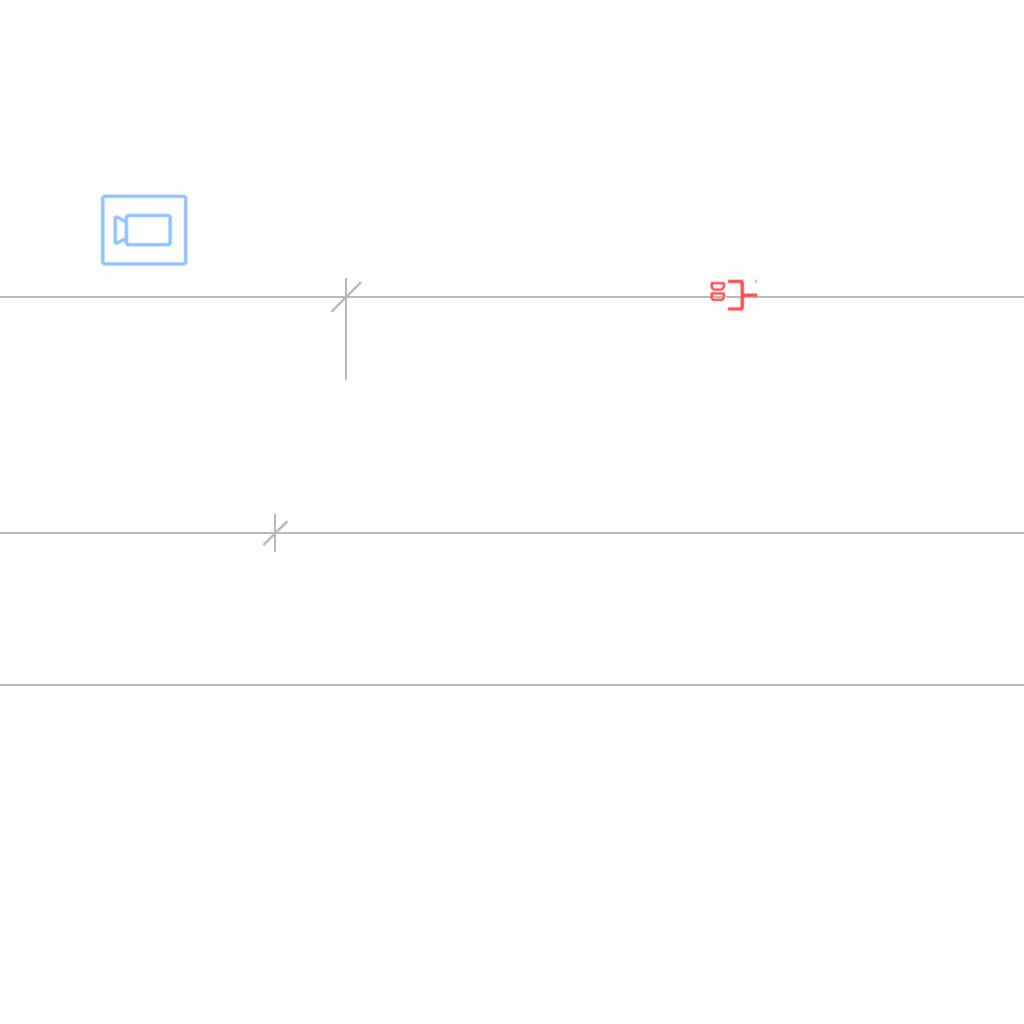Datenanschluss_zweifach: (708, 279, 759, 313)
KFO_Kamera_mit_Festobjektiv: (99, 191, 190, 268)
